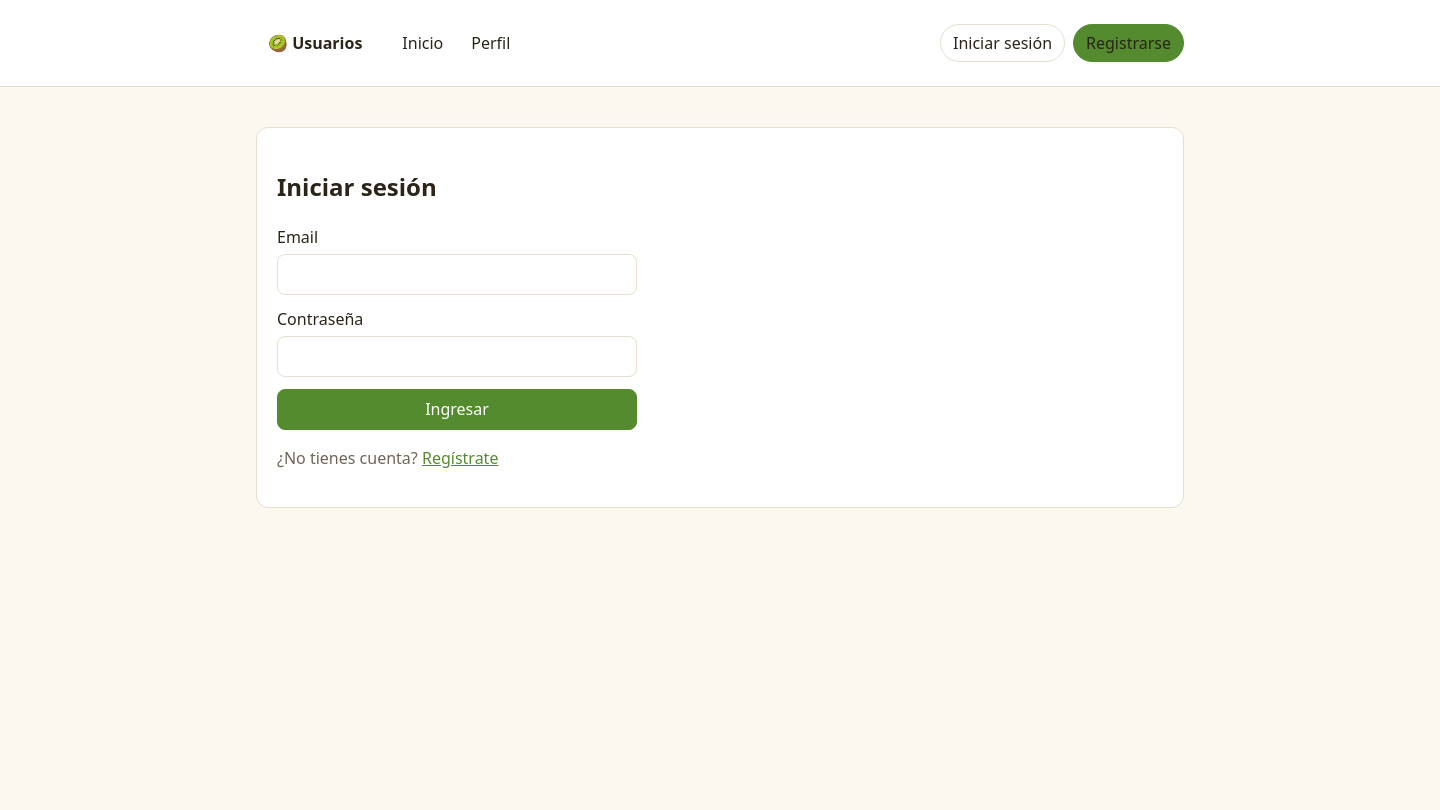
Manejo de usuario › muestra error con credenciales inválidas
Step 1. Type "user@kiwi.cl" into the field labelled "Email" → (457, 274), box x1=277 y1=254 x2=637 y2=295
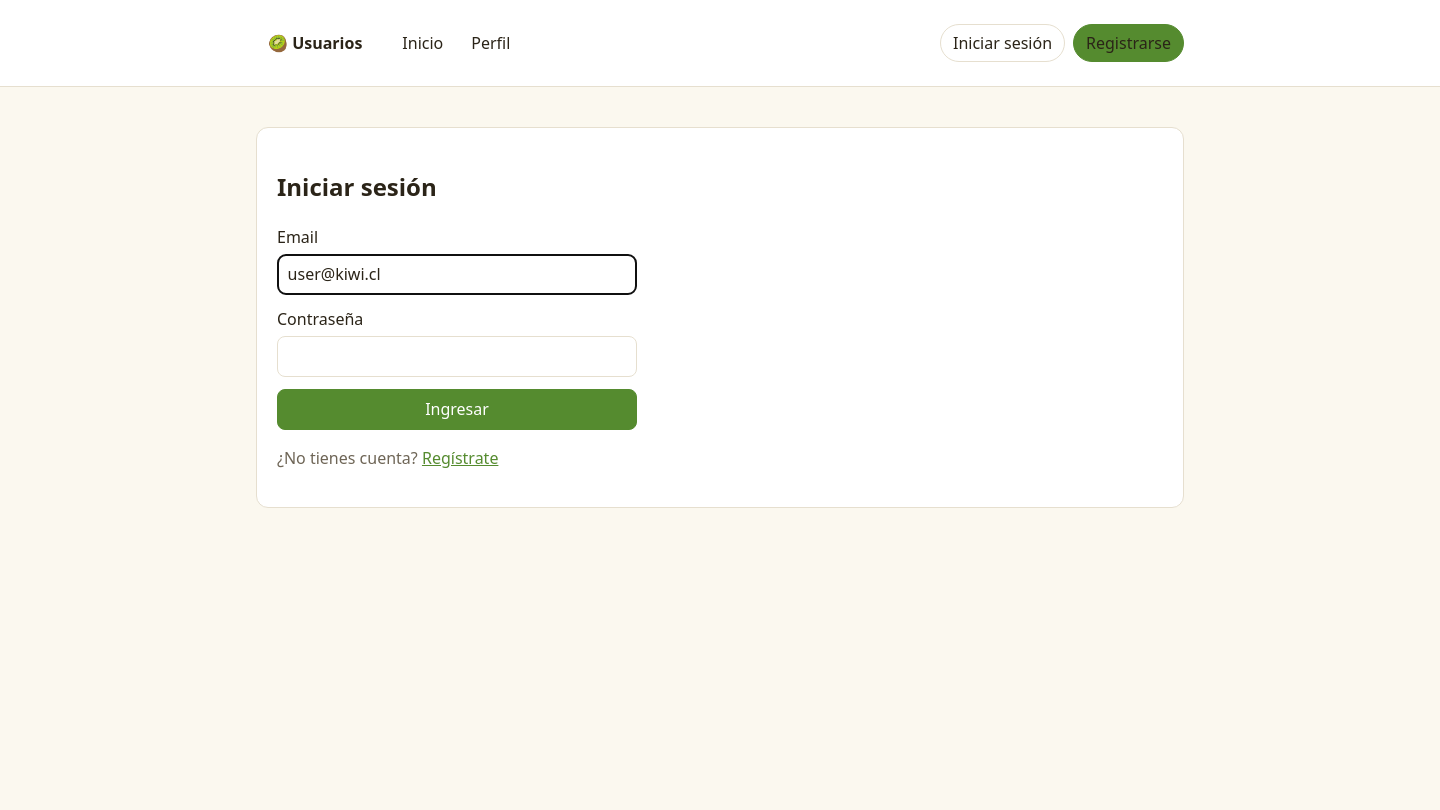
Step 2. Type "malaclave" into the password field labelled "Contraseña" → (457, 356), box x1=277 y1=336 x2=637 y2=377
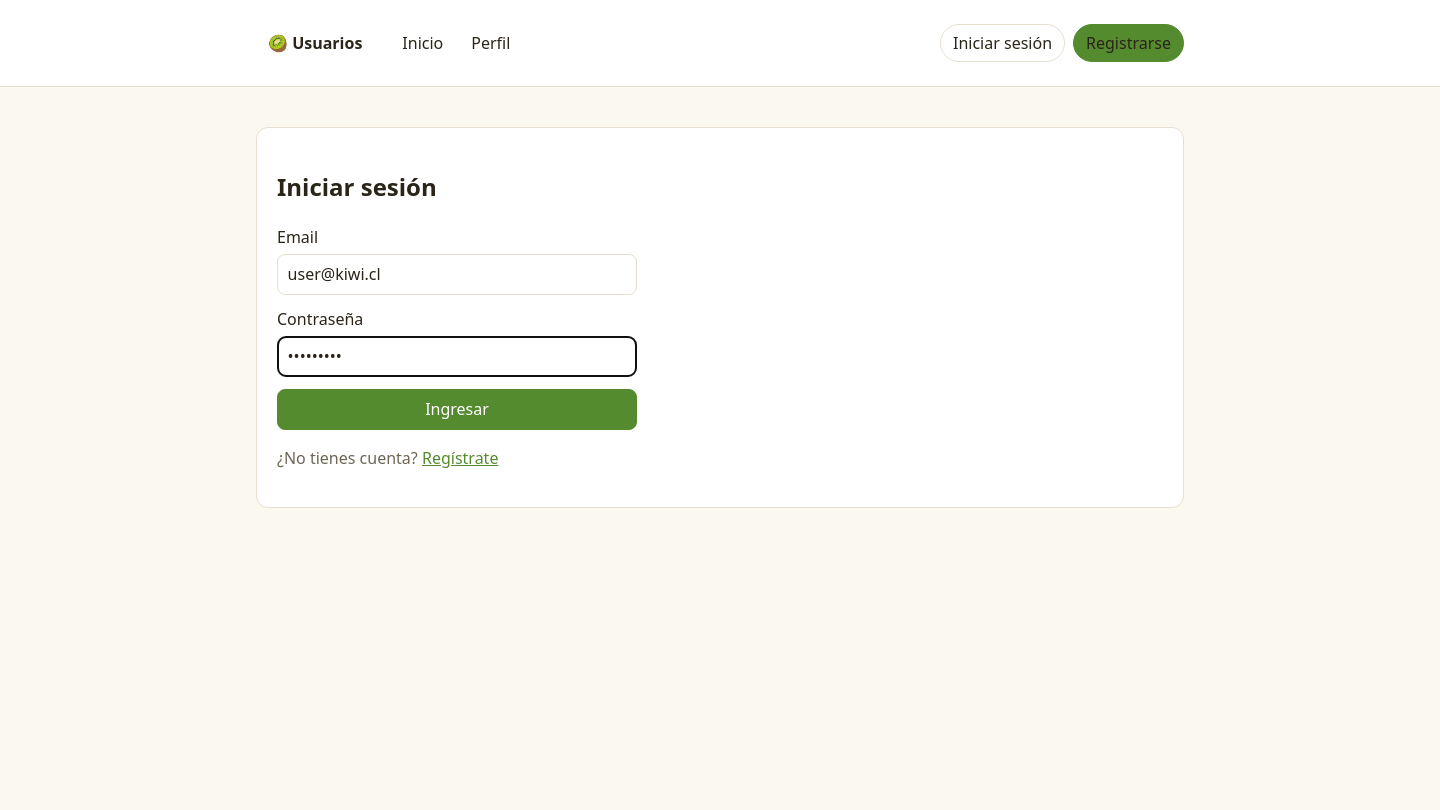
Step 3. Click the button "Ingresar" → (457, 410), box x1=277 y1=389 x2=637 y2=430
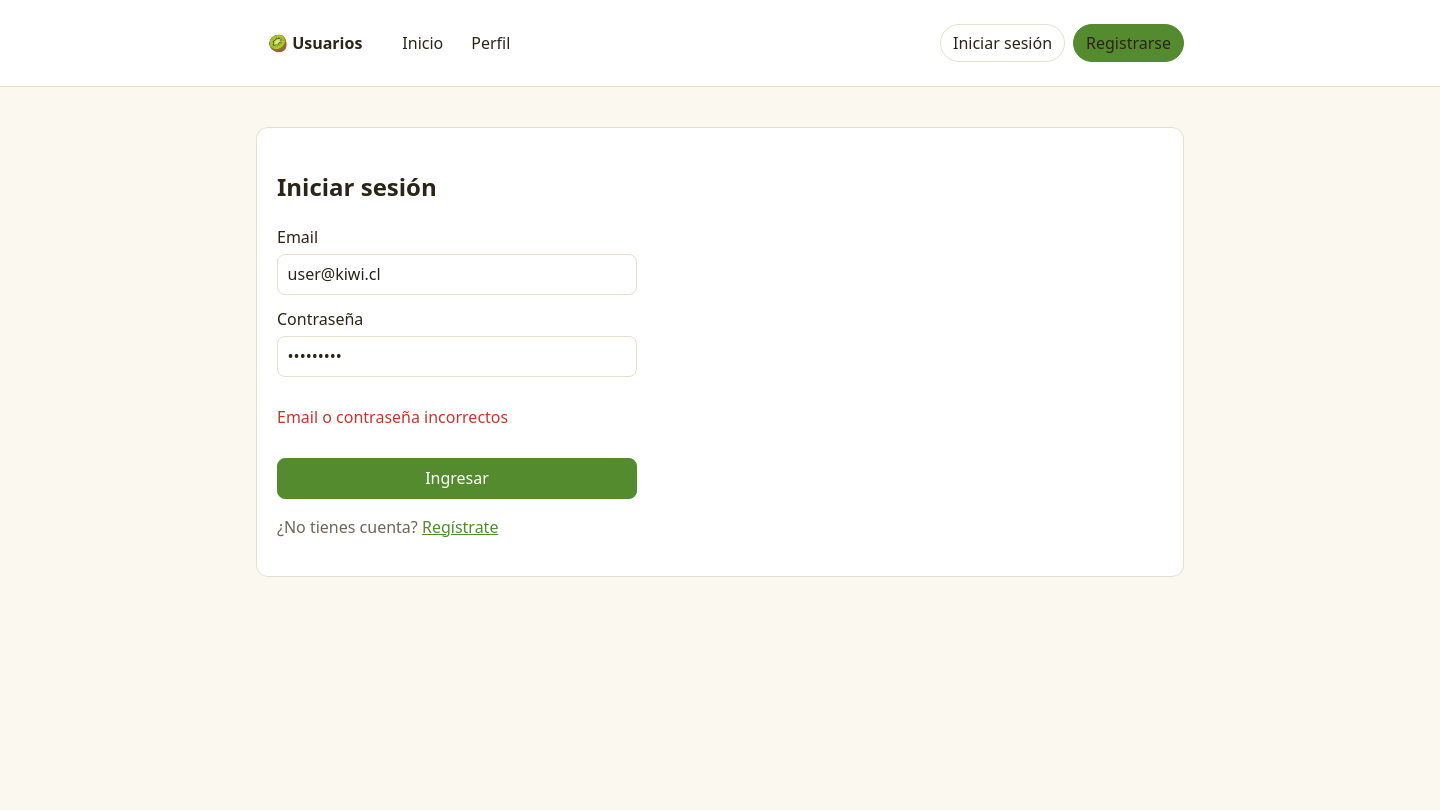
Result: the message shows "incorrectos" at x1=277 y1=406 x2=508 y2=428
